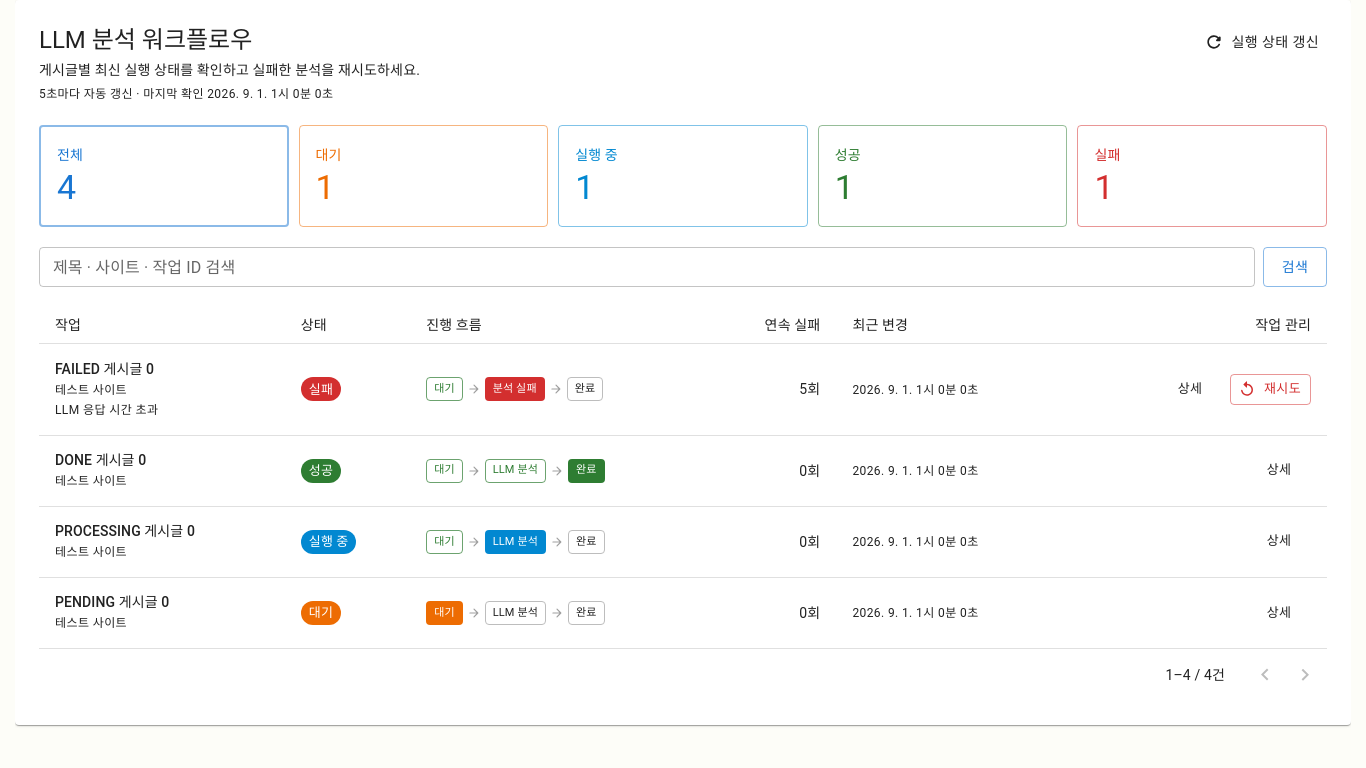
Test: retries a failed run and refreshes its state and totals
Click the button with aria-label "failed 게시글 0 재시도": (1270, 390) [1230,374,1311,405]
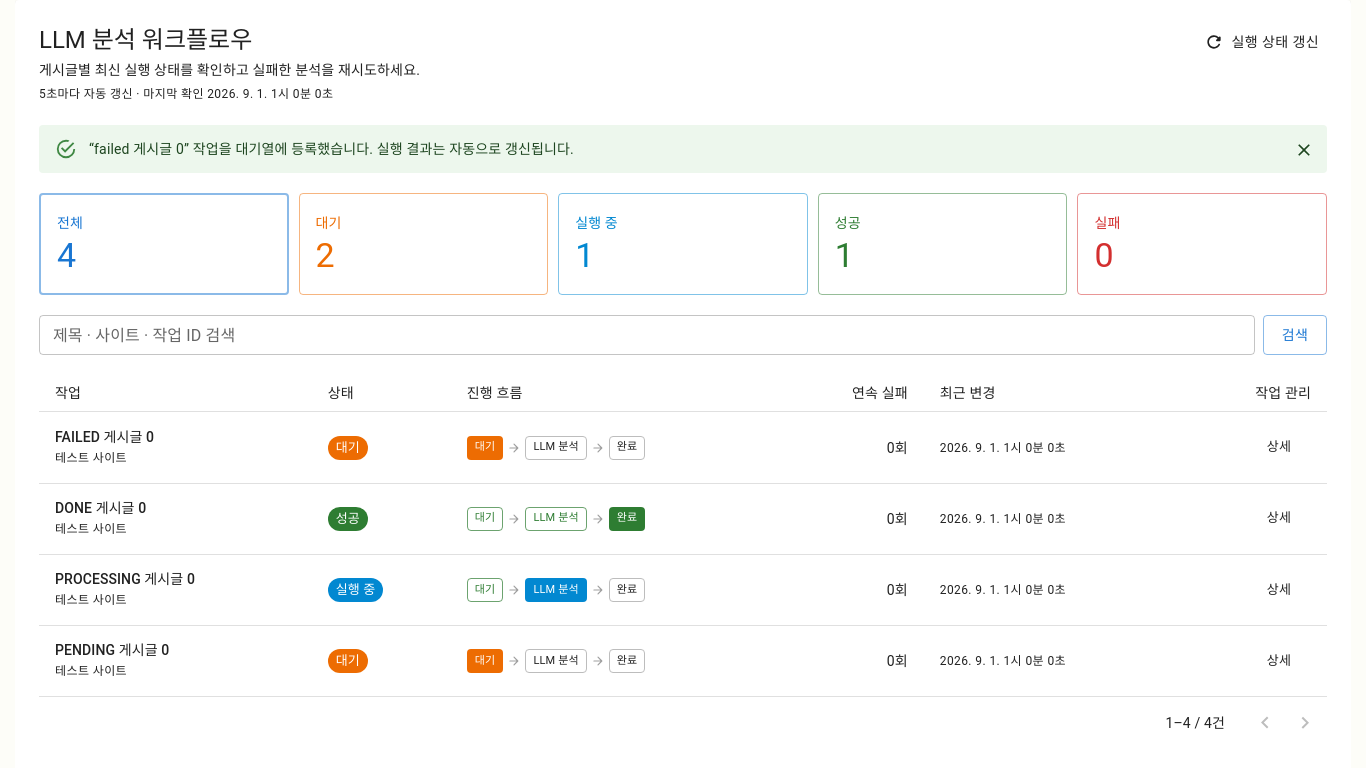
Check: the heading "0" is shown, box [1094,236,1114,276]
Check: the text "“failed 게시글 0” 작업을 대기열에 등록했습니다. 실행 결과는 자동으로 갱신됩니다." is shown, box [89,141,574,157]
Check: the heading "2" is shown, box [316,236,335,276]
